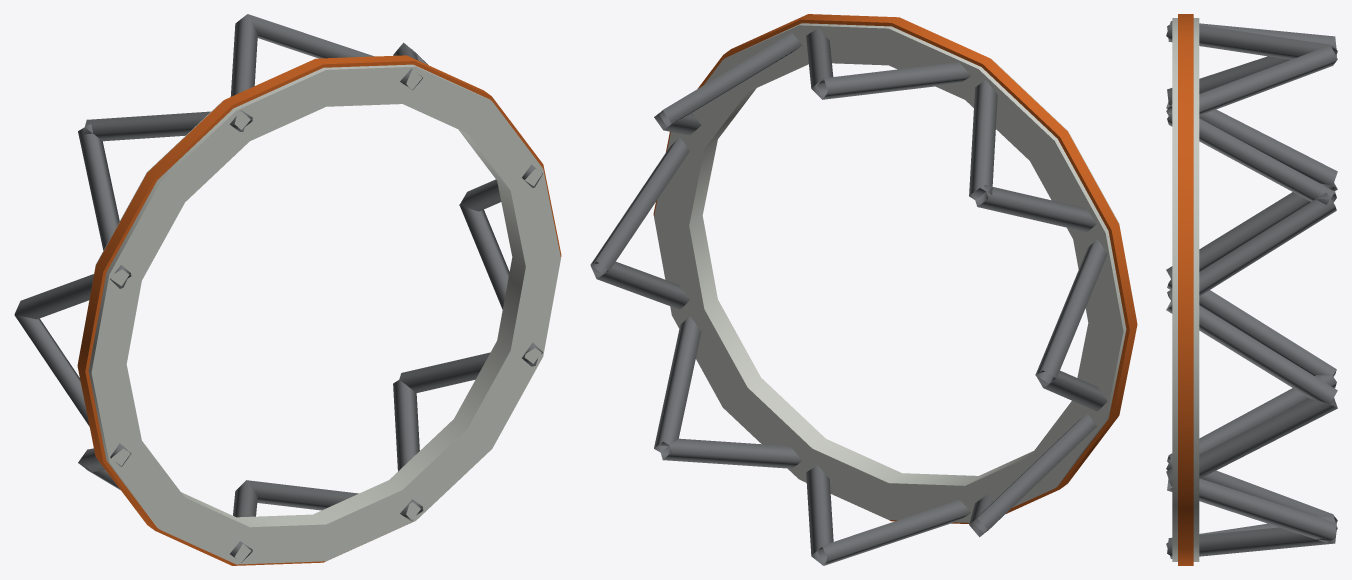
File: u33_interstage.obj
3 renders of one model, left to right at view 1: azimuth 30°, elevation 25°; view 2: azimuth 150°, elevation 25°; view 3: azimuth 270°, elevation 25°, orthographic.
Parts seen in each view (by area): view 1: u33_interstage; view 2: u33_interstage; view 3: u33_interstage.
Boxes of the visible parts, <box> form: u33_interstage: <box>14,14,561,565</box>; u33_interstage: <box>590,14,1137,565</box>; u33_interstage: <box>1166,14,1337,565</box>.
Bounding box in the file's own units: 2.84 × 2.84 × 0.8829.
